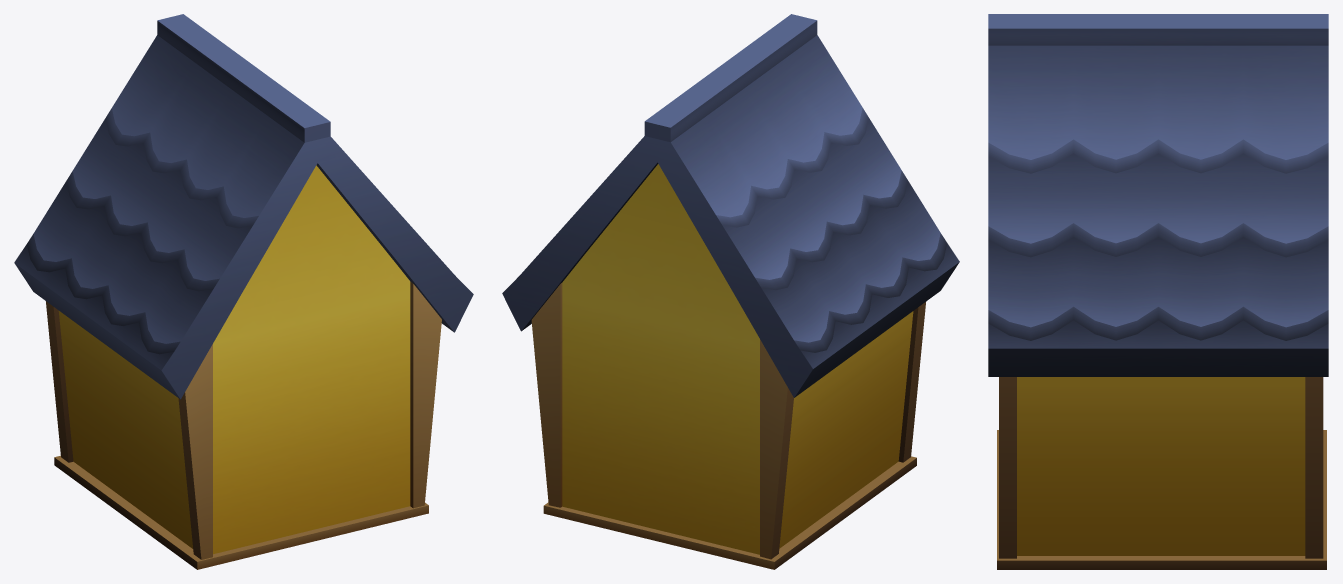
The model's file is Building_Main_03A.fbx.
3 views of the same model, side by side, from view 1: azimuth 30°, elevation 25°; view 2: azimuth 150°, elevation 25°; view 3: azimuth 270°, elevation 25° (orthographic). The views are drawn at different scales.
Visible parts, largest first — view 1: Building_Main_03A; view 2: Building_Main_03A; view 3: Building_Main_03A.
Part boxes in pixels (left/top/right/bottom): Building_Main_03A: left=14, top=14, right=473, bottom=569; Building_Main_03A: left=502, top=14, right=959, bottom=569; Building_Main_03A: left=988, top=14, right=1328, bottom=569.
Bounding box in the file's own units: 585 × 750 × 478.
Materials: 2 (2 with a texture image).
